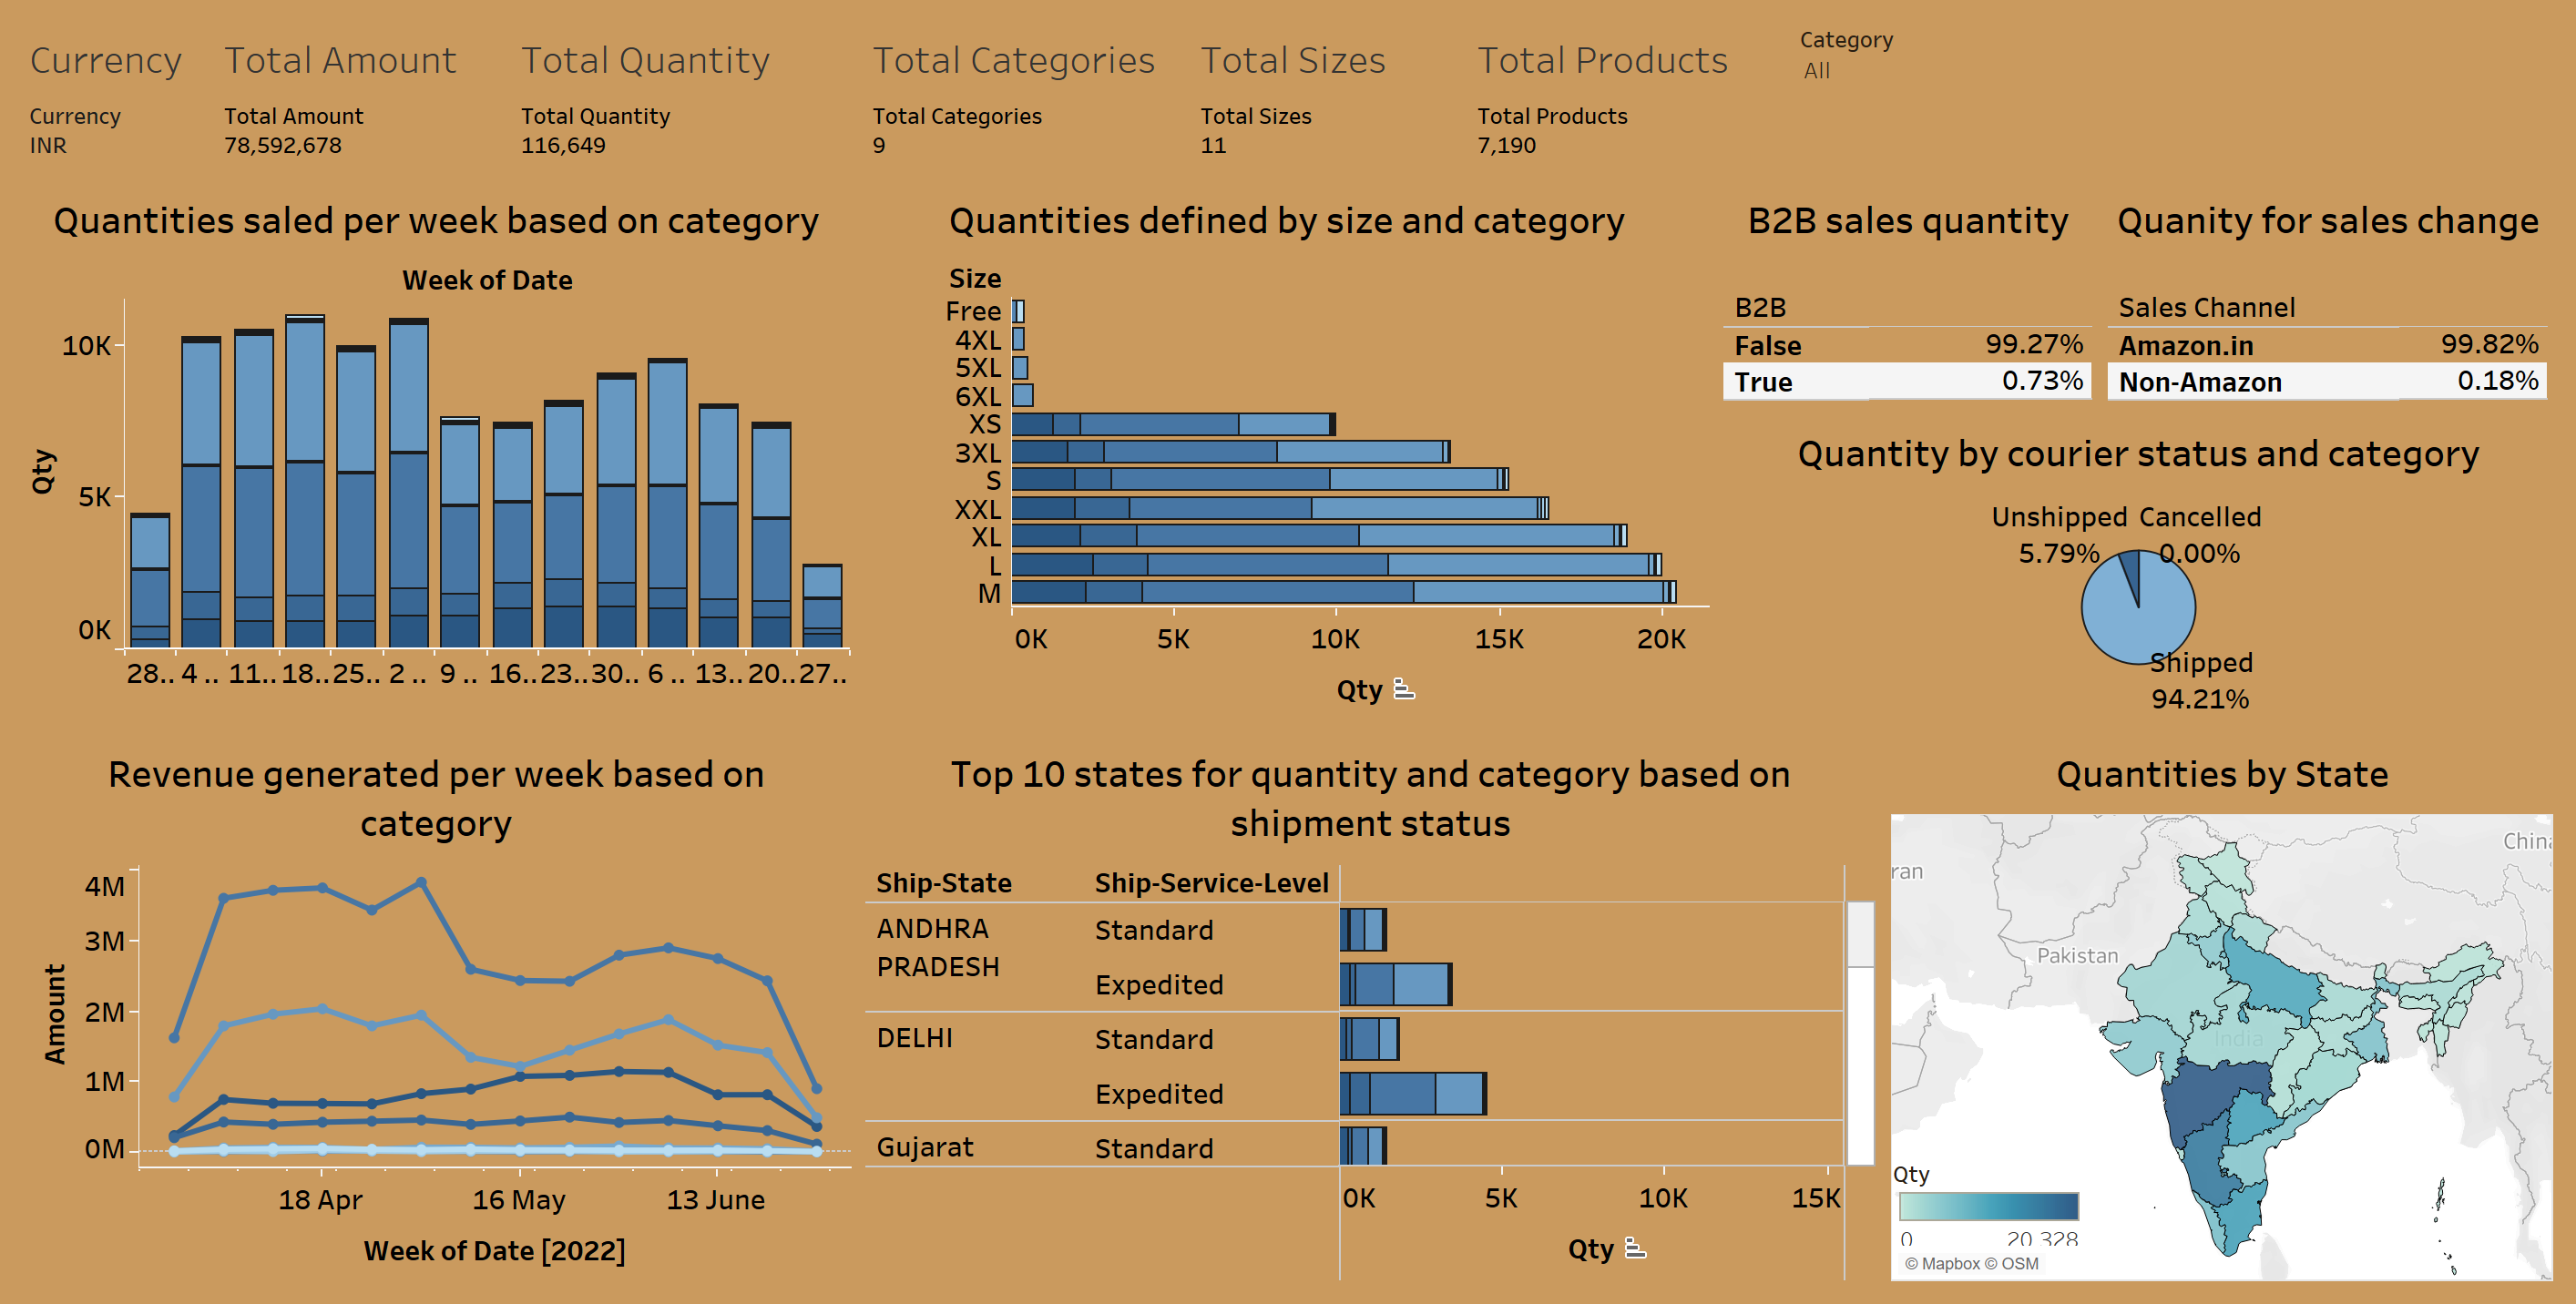

This screenshot's page, from the dashboard's own definition file:
{"tool":"tableau","page":{"name":"Dashboard 1","canvas":[1000,1000],"units":"permille","ordinal":0},"visuals":[{"type":"worksheet","title":"Currency","mark":"Automatic","box":[5.7,11.2,75.4,122.9]},{"type":"worksheet","title":"Total Amount","mark":"Automatic","box":[81.1,11.2,115.5,122.9]},{"type":"worksheet","title":"Total Quantity","mark":"Automatic","box":[196.6,11.2,136.5,122.9]},{"type":"worksheet","title":"Total Categories","mark":"Automatic","box":[333.1,11.2,127.3,122.9]},{"type":"worksheet","title":"Total Sizes","mark":"Automatic","box":[460.4,11.2,107.5,122.9]},{"type":"worksheet","title":"Total Products","mark":"Automatic","box":[567.9,11.2,128,122.9]},{"type":"filter","title":"Quantity by state","param":"[federated.0iyvpwl0tlkbtr1cmaixb0cya7l1].[none:Category:nk]","box":[695.9,11.2,298.4,122.9]},{"type":"worksheet","title":"Quantities saled per week","mark":"Bar","rows":["Qty"],"cols":["Date"],"box":[5.7,134.1,327.7,424.9]},{"type":"worksheet","title":"Quantity by size and category","mark":"Bar","rows":["Size"],"cols":["Qty"],"box":[333.4,134.1,332.8,424.9]},{"type":"worksheet","title":"B2B sales quantity","mark":"Automatic","rows":["B2B"],"box":[666.2,134.1,149.2,179.1]},{"type":"worksheet","title":"Quantity for sales change","mark":"Automatic","rows":["Sales Channel"],"box":[815.4,134.1,178.9,179.1]},{"type":"worksheet","title":"Quantity by courier status and category","mark":"Pie","box":[666.2,313.2,328.2,245.8]},{"type":"worksheet","title":"Revenue generated per week","mark":"Line","rows":["Amount"],"cols":["Date"],"box":[5.7,559,327.7,429.8]},{"type":"worksheet","title":"Top 10 states for quantity and category based on shipment status","mark":"Bar","rows":["ship-state","ship-service-level"],"cols":["Qty"],"box":[333.4,559,397.9,429.8]},{"type":"worksheet","title":"Quantity by state","mark":"Automatic","box":[731.2,559,263.1,429.8]},{"type":"legend","title":"Quantity by state","param":"[federated.0iyvpwl0tlkbtr1cmaixb0cya7l1].[sum:Qty:qk]","box":[734.8,882.7,75.7,72.6]}]}

Visuals, with their boxes on the dashboard's canvas, which has no fixed pixel size, in thousandths of its width and height (x1, y1, x2, y2). These are canvas units, not pixel positions in the 2576x1304 screenshot, which may show the page scaled, cropped or inside an application window:
"Currency" worksheet: <region>6, 11, 81, 134</region>
"Total Amount" worksheet: <region>81, 11, 197, 134</region>
"Total Quantity" worksheet: <region>197, 11, 333, 134</region>
"Total Categories" worksheet: <region>333, 11, 460, 134</region>
"Total Sizes" worksheet: <region>460, 11, 568, 134</region>
"Total Products" worksheet: <region>568, 11, 696, 134</region>
"Quantity by state" filter: <region>696, 11, 994, 134</region>
"Quantities saled per week" worksheet (Bar marks): <region>6, 134, 333, 559</region>
"Quantity by size and category" worksheet (Bar marks): <region>333, 134, 666, 559</region>
"B2B sales quantity" worksheet: <region>666, 134, 815, 313</region>
"Quantity for sales change" worksheet: <region>815, 134, 994, 313</region>
"Quantity by courier status and category" worksheet (Pie marks): <region>666, 313, 994, 559</region>
"Revenue generated per week" worksheet (Line marks): <region>6, 559, 333, 989</region>
"Top 10 states for quantity and category based on shipment status" worksheet (Bar marks): <region>333, 559, 731, 989</region>
"Quantity by state" worksheet: <region>731, 559, 994, 989</region>
"Quantity by state" legend: <region>735, 883, 810, 955</region>
